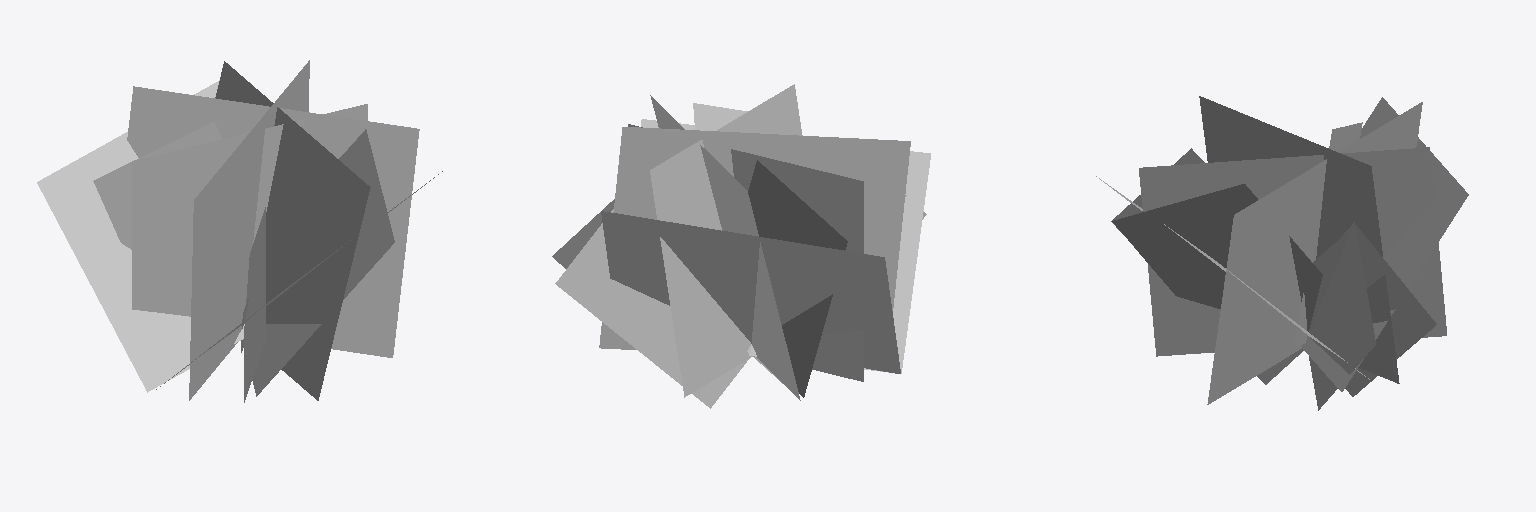
File: SCRUB_SHRUB_2.obj
The picture shows the model from 3 angles: view 1: azimuth 30°, elevation 25°; view 2: azimuth 150°, elevation 25°; view 3: azimuth 270°, elevation 25°; orthographic projection.
Parts seen in each view (by area): view 1: Plane; view 2: Plane; view 3: Plane.
Part boxes in pixels (left/top/right/bottom): Plane: left=37, top=60, right=442, bottom=402; Plane: left=552, top=84, right=930, bottom=408; Plane: left=1096, top=96, right=1468, bottom=410.
Bounding box in the file's own units: 2.13 × 1.68 × 2.08.